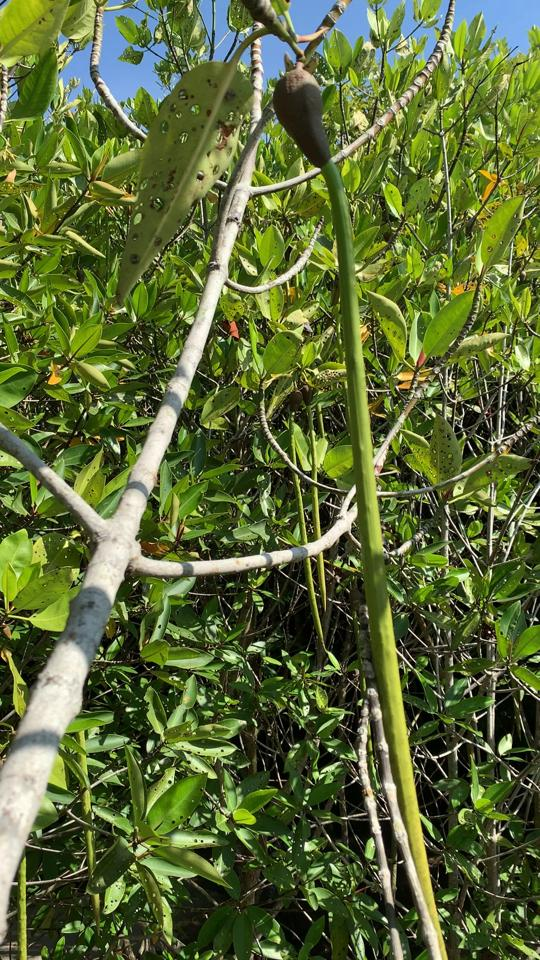mentah: (271, 48, 479, 953)
